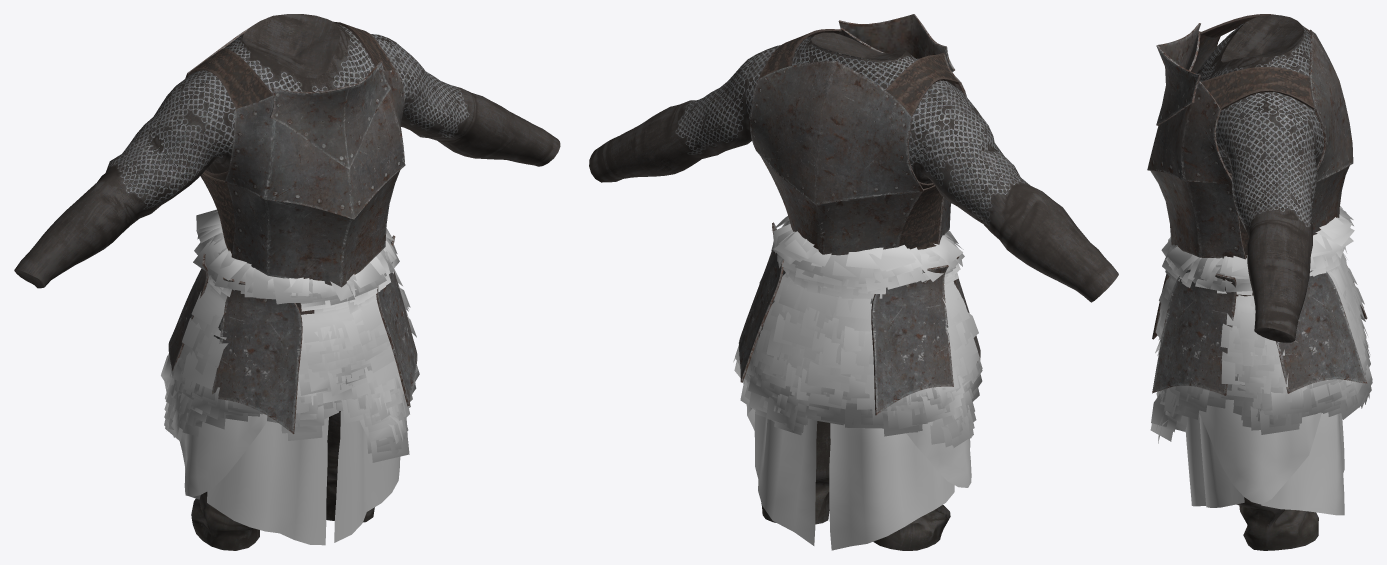
File: sk_gb_uruk_chest_elite_a.fbx
3 renders of one model, left to right at view 1: azimuth 30°, elevation 25°; view 2: azimuth 150°, elevation 25°; view 3: azimuth 270°, elevation 25°, orthographic. The views are drawn at different scales.
Parts seen in each view (by area): view 1: sk_gb_uruk_chest_elite_a.base.2, sk_gb_uruk_chest_elite_a.base.1, sk_gb_uruk_chest_elite_a.skirt.2, sk_gb_uruk_chest_elite_a.skirt.1, sk_gb_uruk_chest_elite_a.base.0; view 2: sk_gb_uruk_chest_elite_a.base.2, sk_gb_uruk_chest_elite_a.skirt.2, sk_gb_uruk_chest_elite_a.base.1, sk_gb_uruk_chest_elite_a.skirt.1, sk_gb_uruk_chest_elite_a.base.0; view 3: sk_gb_uruk_chest_elite_a.base.2, sk_gb_uruk_chest_elite_a.base.1, sk_gb_uruk_chest_elite_a.skirt.2, sk_gb_uruk_chest_elite_a.skirt.1, sk_gb_uruk_chest_elite_a.base.0.
Boxes of the visible parts, bbox=[...] form: sk_gb_uruk_chest_elite_a.base.2: bbox=[168, 21, 417, 433]; sk_gb_uruk_chest_elite_a.base.1: bbox=[14, 14, 560, 288]; sk_gb_uruk_chest_elite_a.skirt.2: bbox=[161, 209, 419, 462]; sk_gb_uruk_chest_elite_a.skirt.1: bbox=[179, 411, 407, 545]; sk_gb_uruk_chest_elite_a.base.0: bbox=[191, 411, 374, 550]; sk_gb_uruk_chest_elite_a.base.2: bbox=[739, 14, 980, 415]; sk_gb_uruk_chest_elite_a.skirt.2: bbox=[733, 216, 982, 447]; sk_gb_uruk_chest_elite_a.base.1: bbox=[589, 32, 1118, 302]; sk_gb_uruk_chest_elite_a.skirt.1: bbox=[746, 405, 971, 550]; sk_gb_uruk_chest_elite_a.base.0: bbox=[761, 421, 950, 550]; sk_gb_uruk_chest_elite_a.base.2: bbox=[1147, 14, 1367, 395]; sk_gb_uruk_chest_elite_a.base.1: bbox=[1196, 15, 1324, 342]; sk_gb_uruk_chest_elite_a.skirt.2: bbox=[1150, 206, 1372, 443]; sk_gb_uruk_chest_elite_a.skirt.1: bbox=[1185, 399, 1344, 515]; sk_gb_uruk_chest_elite_a.base.0: bbox=[1236, 497, 1318, 550].
Size of the model in its own units: 1.35 by 0.5068 by 1.2.
